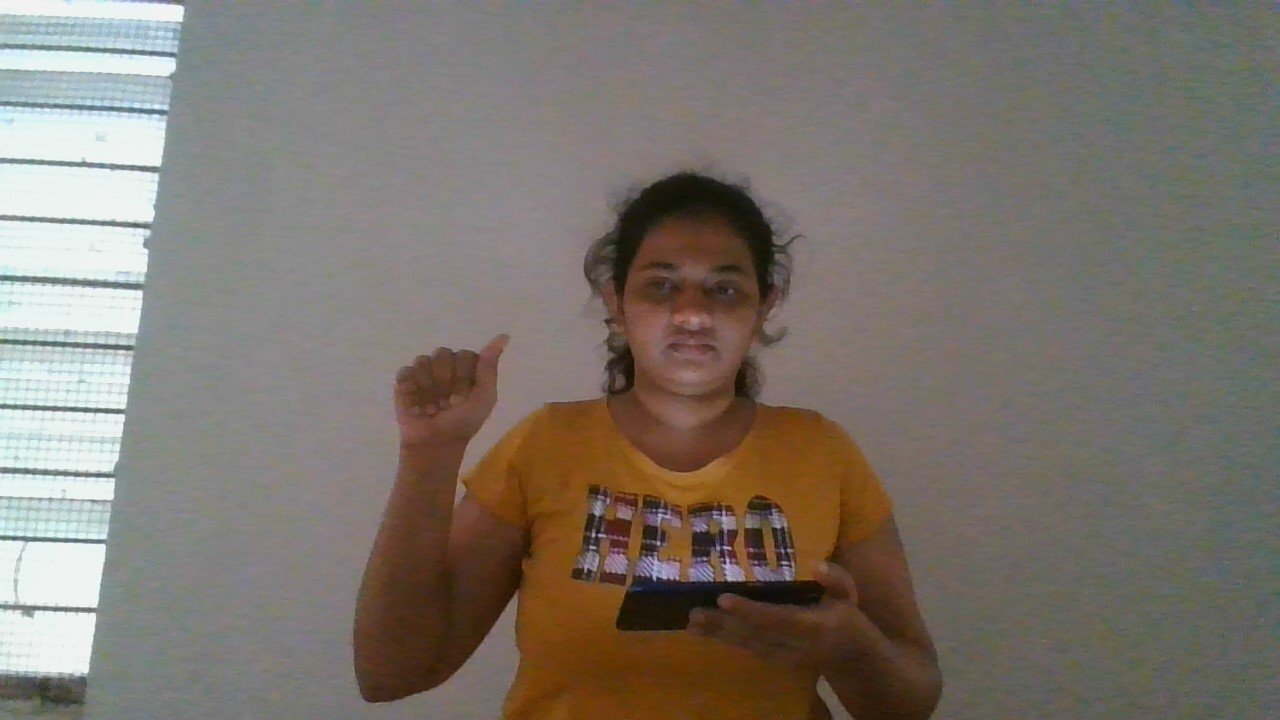a: (381, 323, 522, 468)
